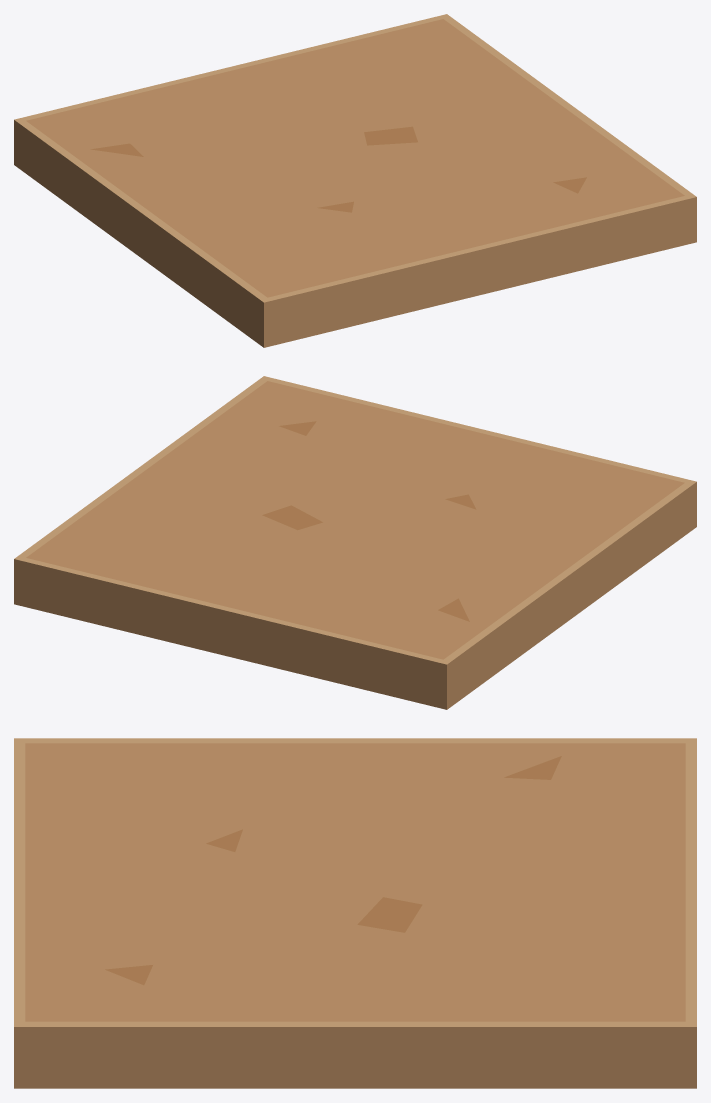
File: ConcrateSlabs_E_2_3.fbx
The picture shows the model from 3 angles, top to bottom: view 1: azimuth 30°, elevation 25°; view 2: azimuth 150°, elevation 25°; view 3: azimuth 270°, elevation 25°; orthographic projection. The views are drawn at different scales.
Parts seen in each view (by area): view 1: ConcrateSlabs_E_2_3; view 2: ConcrateSlabs_E_2_3; view 3: ConcrateSlabs_E_2_3.
Boxes of the visible parts, x1,y1,x2,y2 form: ConcrateSlabs_E_2_3: (14,14,696,347); ConcrateSlabs_E_2_3: (14,376,696,709); ConcrateSlabs_E_2_3: (14,738,696,1088).
Size of the model in its own units: 400 by 40 by 400.
